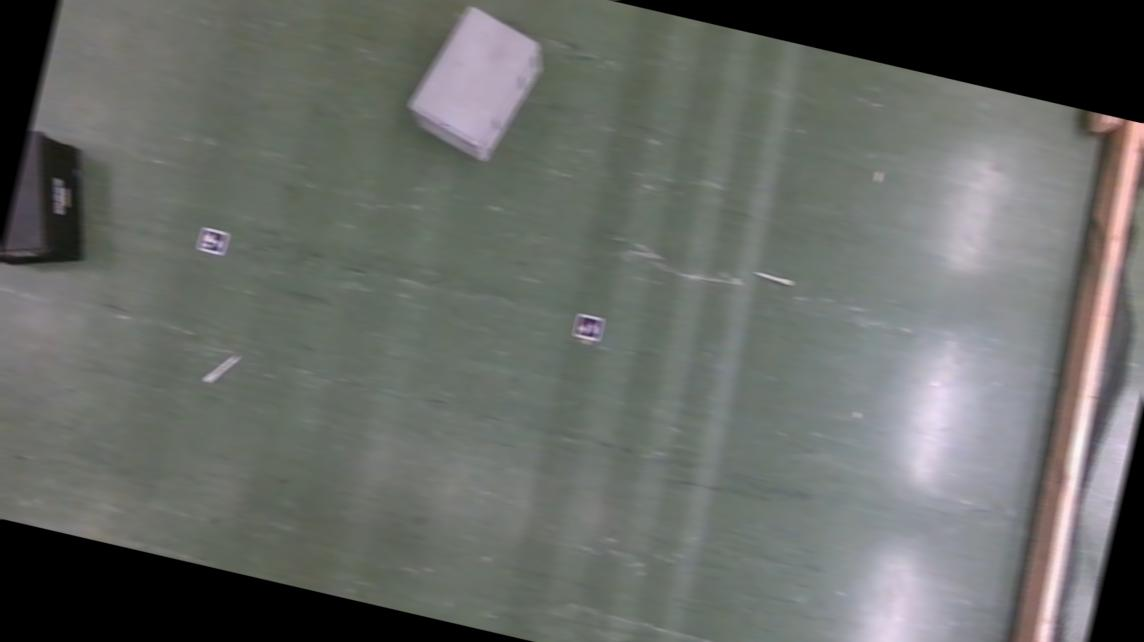probes: (203, 351, 237, 391), (755, 270, 798, 288)
rako: (398, 0, 550, 172), (0, 130, 107, 282)
